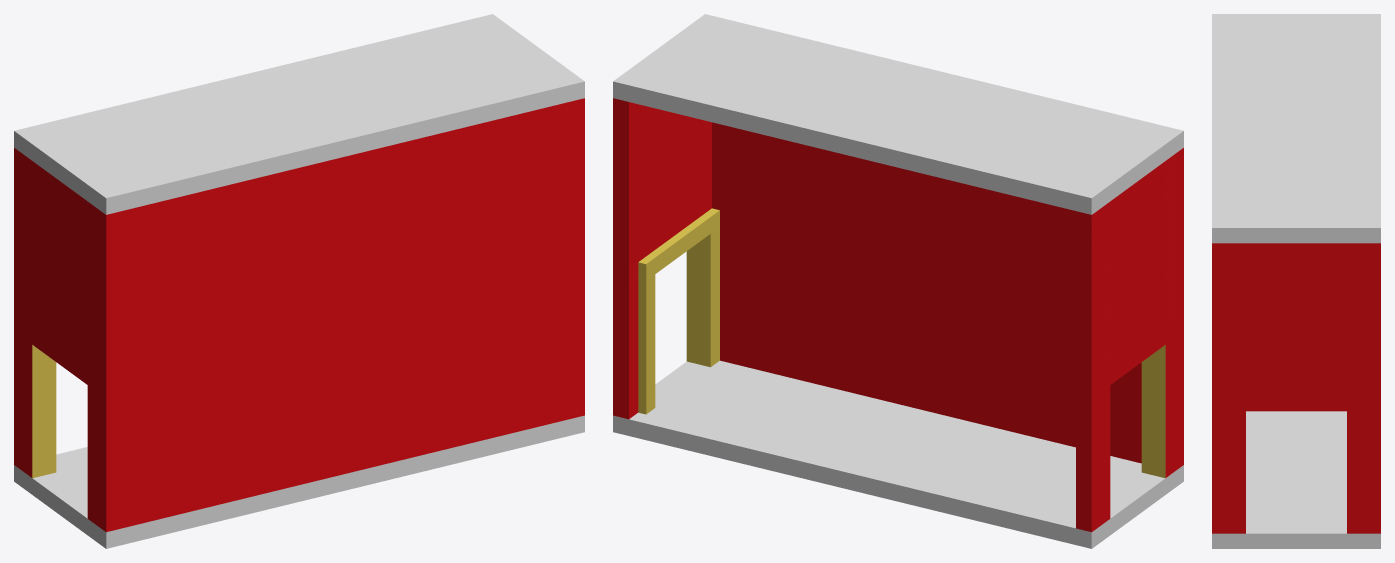
Rendered from Hallway.fbx.
The picture shows the model from 3 angles, left to right: view 1: azimuth 30°, elevation 25°; view 2: azimuth 150°, elevation 25°; view 3: azimuth 270°, elevation 25°; orthographic projection. The views are drawn at different scales.
Parts seen in each view (by area): view 1: Corner_floor_noroof_end_door2.003; view 2: Corner_floor_noroof_end_door2.003; view 3: Corner_floor_noroof_end_door2.003.
Boxes of the visible parts, left/top/right/bottom form: Corner_floor_noroof_end_door2.003: left=14, top=14, right=584, bottom=548; Corner_floor_noroof_end_door2.003: left=613, top=14, right=1183, bottom=548; Corner_floor_noroof_end_door2.003: left=1212, top=14, right=1380, bottom=548.
Size of the model in its own units: 300 by 210 by 100.
